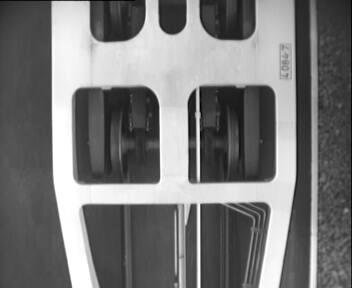wagon_scan: (83, 1, 260, 47)
